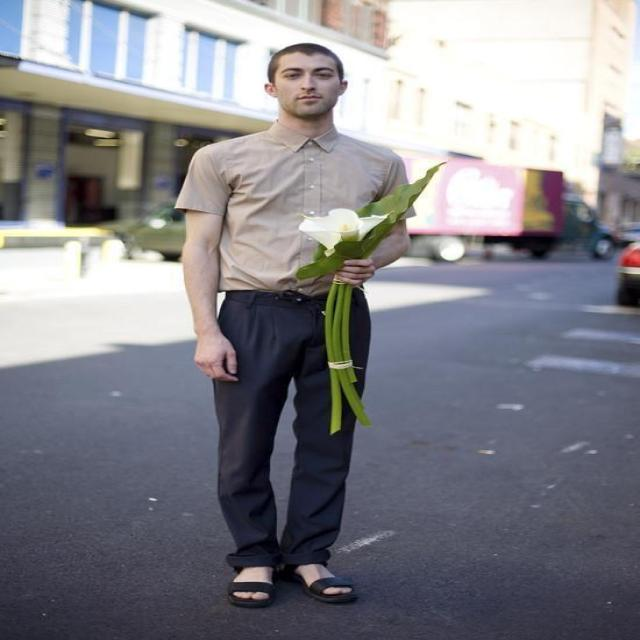pants: (214, 282, 371, 574)
shirt: (171, 120, 415, 292)
